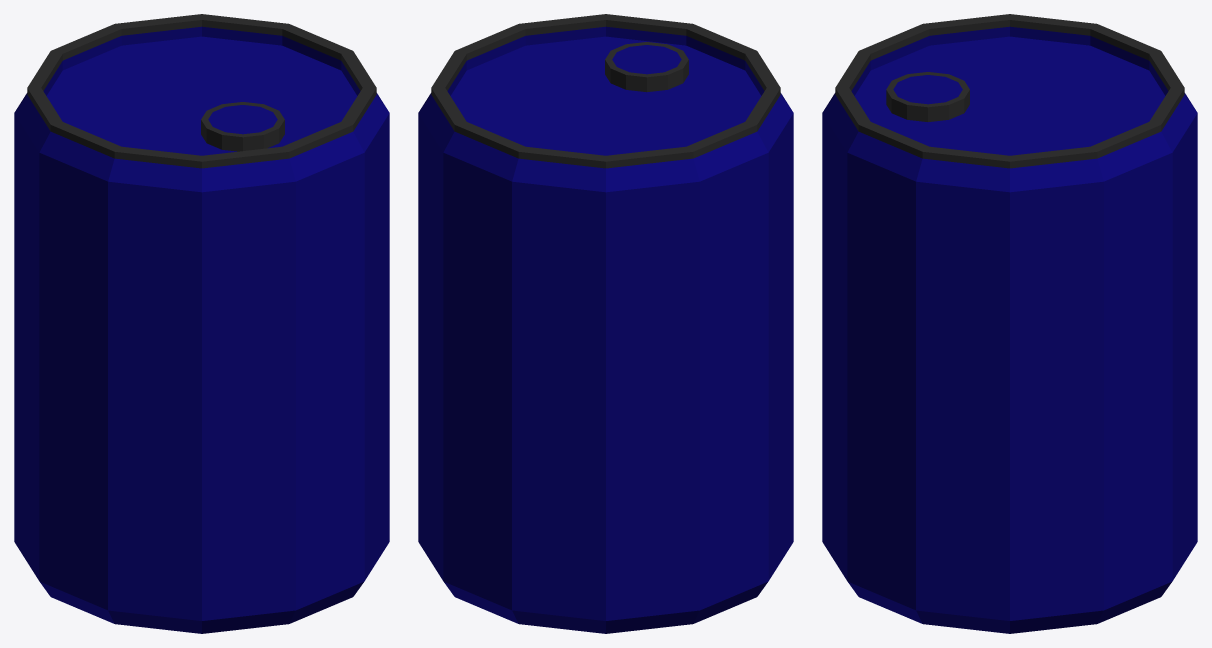
The model's file is plastic_barrel.fbx.
The picture shows the model from 3 angles, left to right: view 1: azimuth 30°, elevation 25°; view 2: azimuth 150°, elevation 25°; view 3: azimuth 270°, elevation 25°; orthographic projection.
Parts seen in each view (by area): view 1: PlasticBarrel; view 2: PlasticBarrel; view 3: PlasticBarrel.
Part boxes in pixels (<box>): PlasticBarrel: <box>14,14,389,633</box>; PlasticBarrel: <box>418,14,793,633</box>; PlasticBarrel: <box>822,14,1197,633</box>.
Size of the model in its own units: 200 by 278 by 200.
